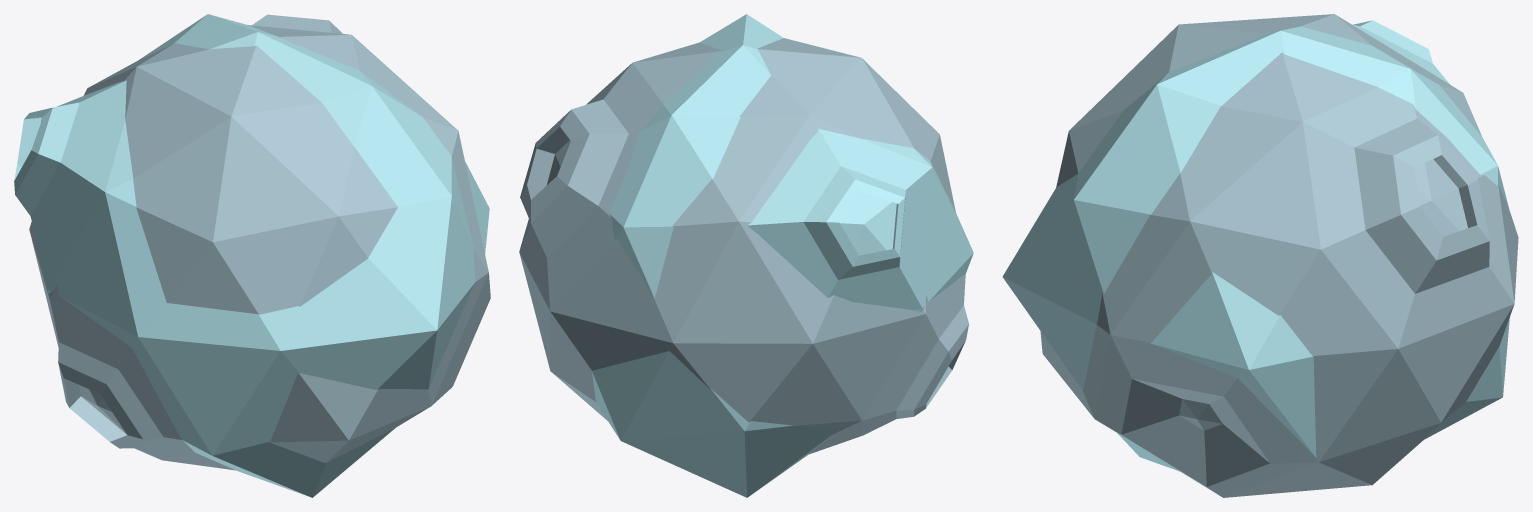
The model's file is SM_planet2.fbx.
The picture shows the model from 3 angles, left to right: view 1: azimuth 30°, elevation 25°; view 2: azimuth 150°, elevation 25°; view 3: azimuth 270°, elevation 25°; orthographic projection. The views are drawn at different scales.
Parts seen in each view (by area): view 1: SM_planet2; view 2: SM_planet2; view 3: SM_planet2.
Boxes of the visible parts, x1,y1,x2,y2 form: SM_planet2: (14, 14, 490, 497); SM_planet2: (519, 14, 973, 497); SM_planet2: (1002, 14, 1518, 497).
Bounding box in the file's own units: 8.46 × 8.23 × 8.53.
